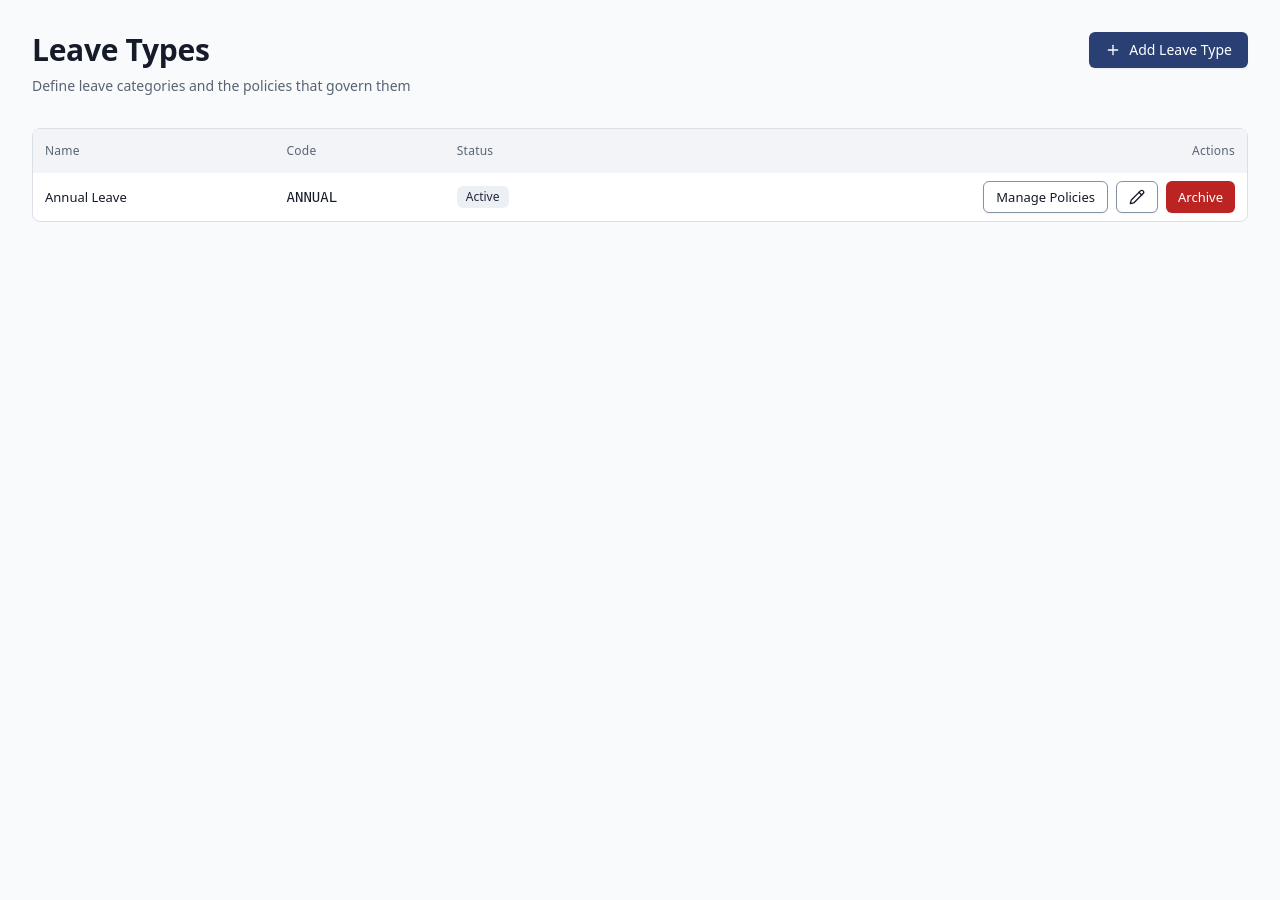
Test case: Leave Types page — status confirmations › Cancel archives nothing
Click the button with test id "button-toggle-leave-type-status-1".
click(1200, 197)  # box 1166,181 -> 1235,213
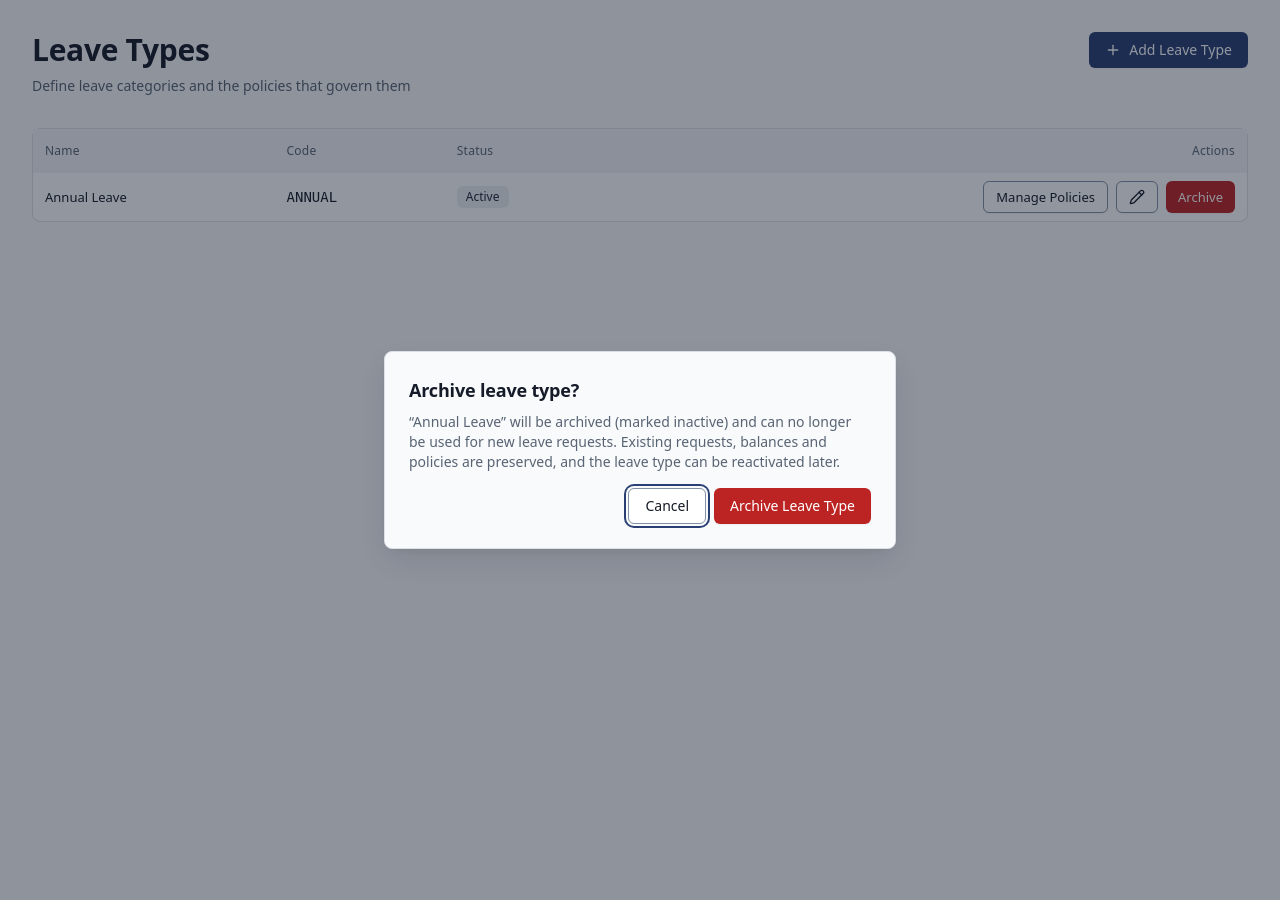
Click the button with test id "dialog-leave-type-status-cancel".
click(667, 506)  # box 628,488 -> 706,524
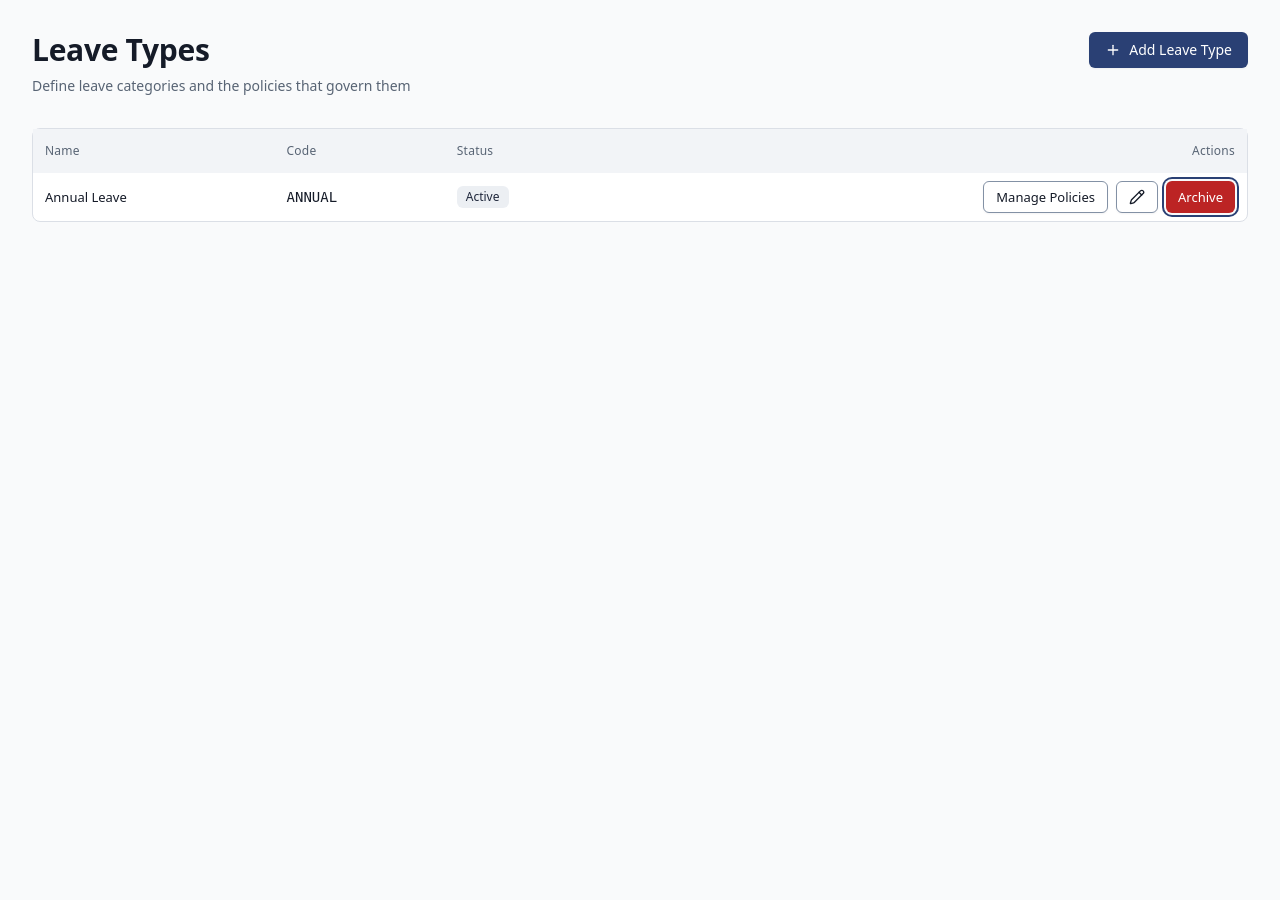
Expected: the dialog with test id "dialog-leave-type-status" is gone
